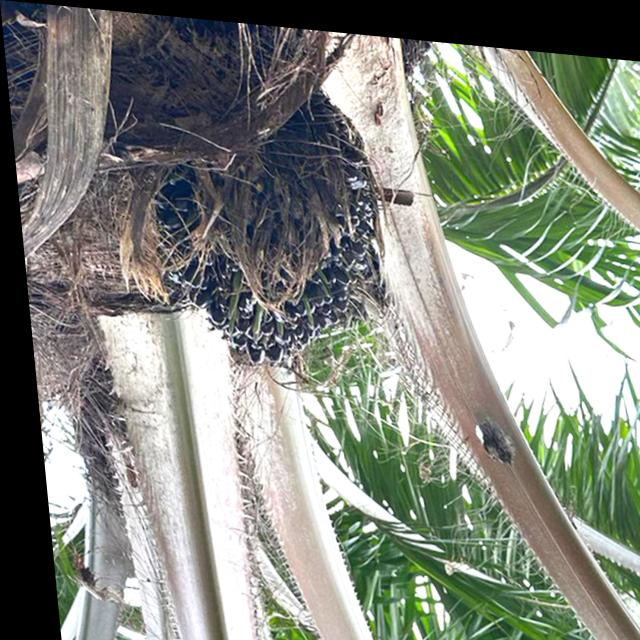unripe: (123, 57, 398, 382)
